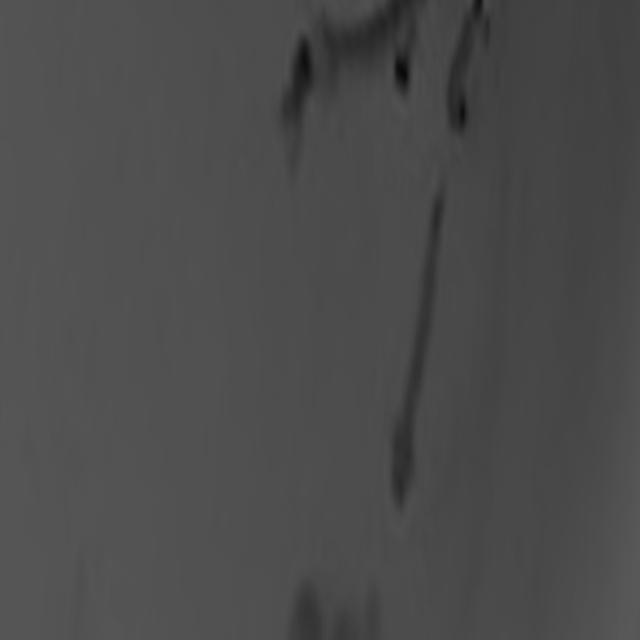larvas: (392, 190, 446, 487), (291, 0, 414, 93), (448, 4, 488, 123)
